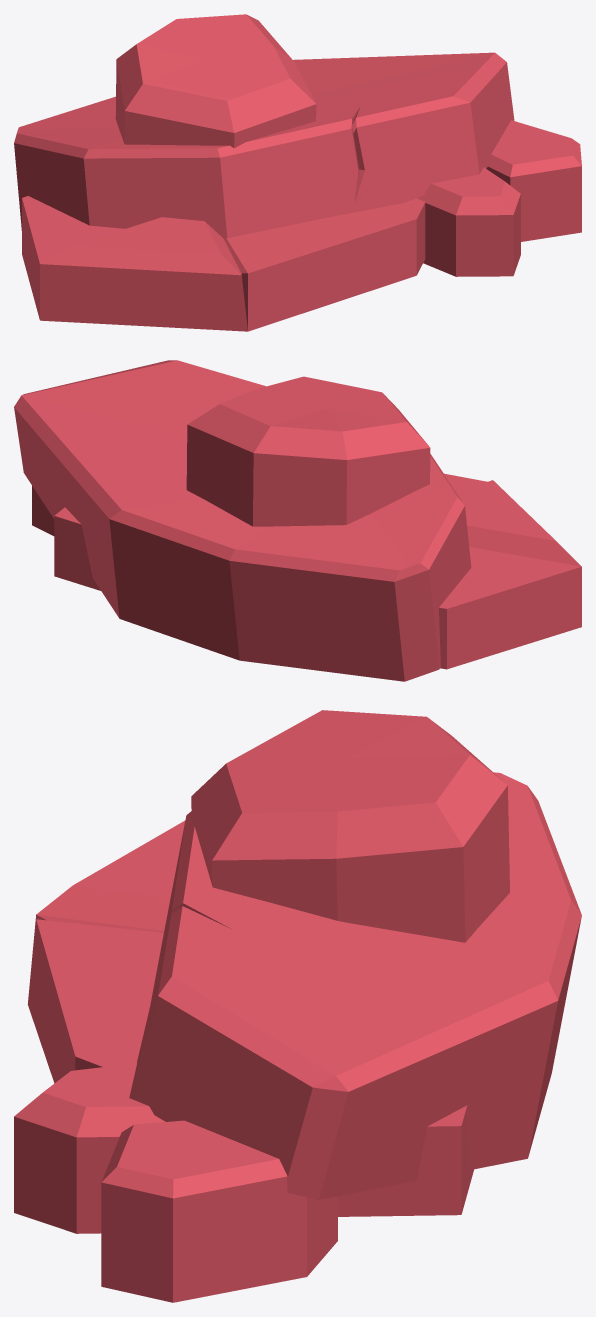
The model's file is RockType1 01.fbx.
3 renders of one model, top to bottom at view 1: azimuth 30°, elevation 25°; view 2: azimuth 150°, elevation 25°; view 3: azimuth 270°, elevation 25°, orthographic. The views are drawn at different scales.
Visible parts, largest first — view 1: Rock Type1 01 mesh; view 2: Rock Type1 01 mesh; view 3: Rock Type1 01 mesh.
Part boxes in pixels (x1=…): Rock Type1 01 mesh: x1=14, y1=14, x2=581, y2=331; Rock Type1 01 mesh: x1=14, y1=360, x2=581, y2=681; Rock Type1 01 mesh: x1=14, y1=710, x2=581, y2=1302.
Bounding box in the file's own units: 287 × 106 × 172.
